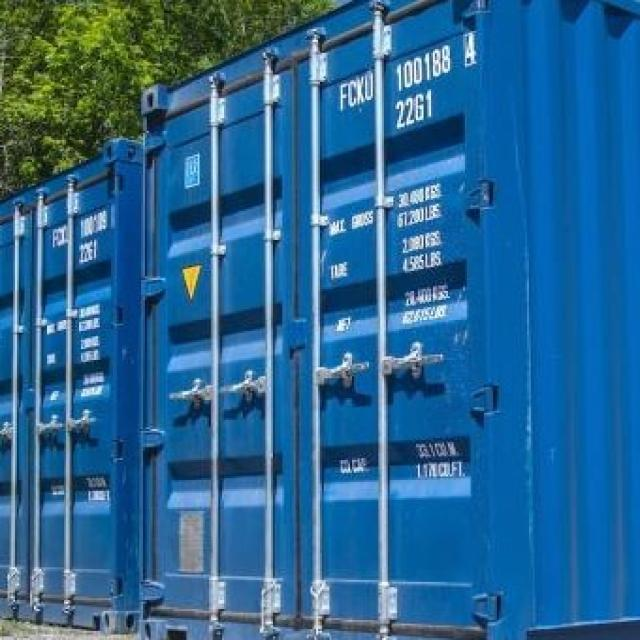ISO: (396, 94, 436, 122), (78, 241, 104, 263)
container_number: (339, 34, 483, 112), (40, 204, 114, 249)
